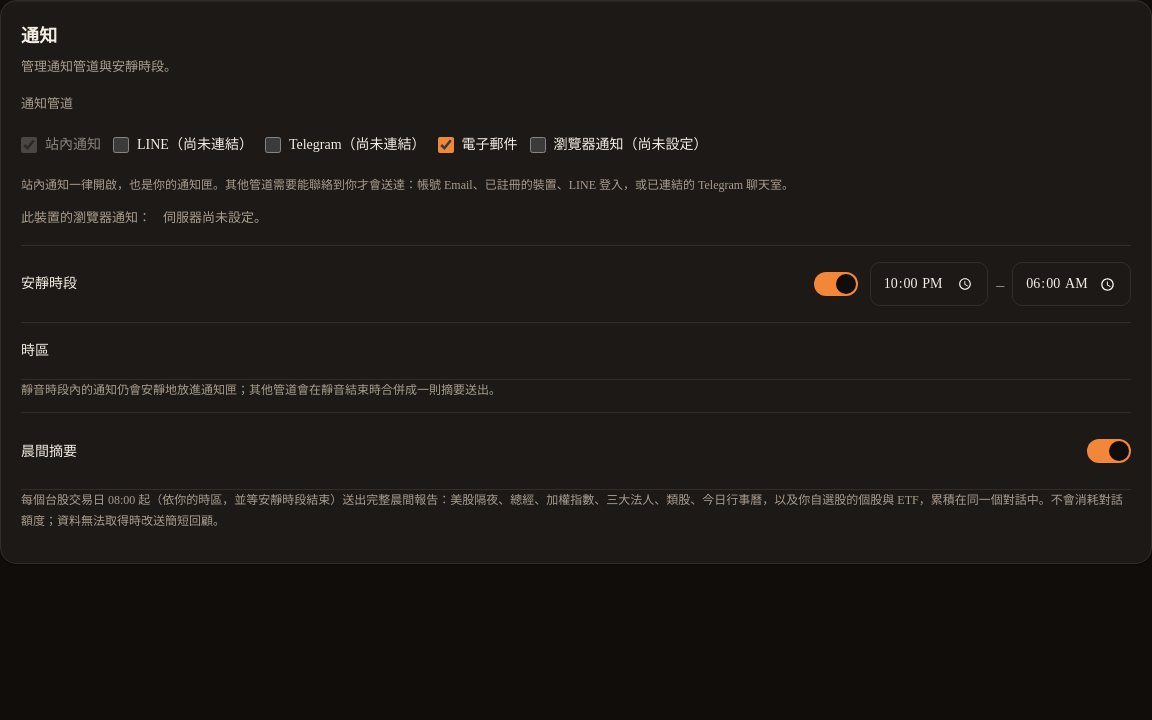
Test: NotificationsPanel actions › shows the save bar when a channel changes and saves the new set
Expected: the text "儲存" is not shown
Click the checkbox labelled "瀏覽器通知（尚未設定）" at (538,145), box [530, 137, 546, 153]
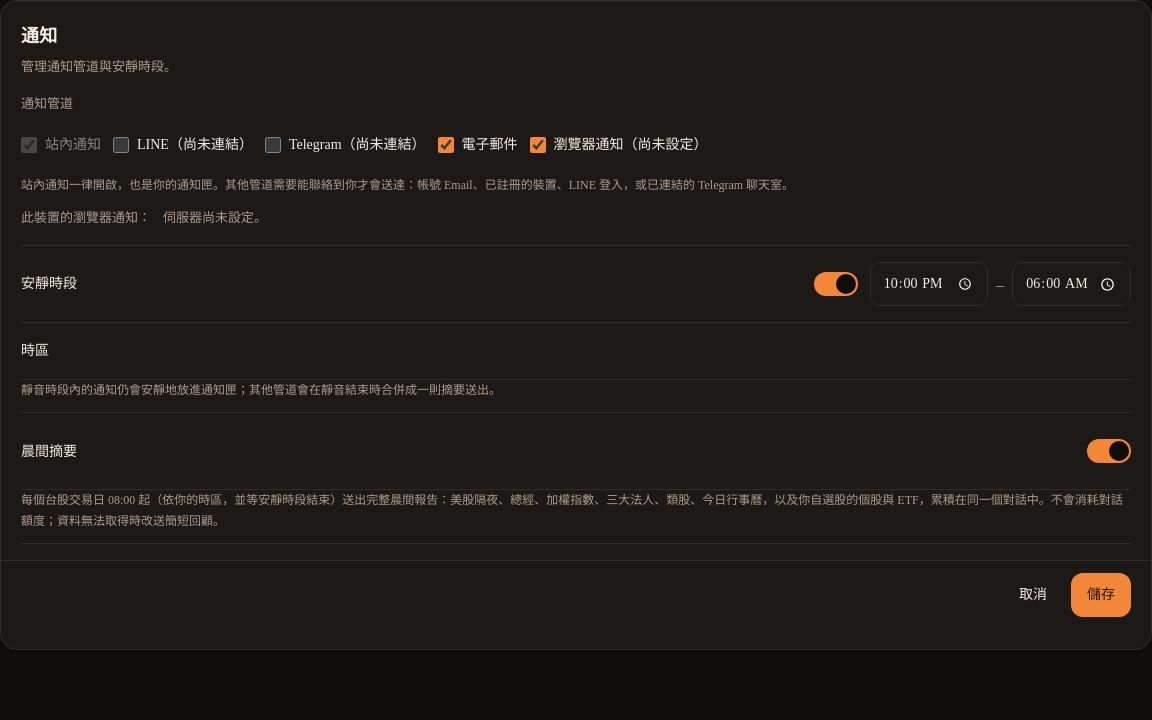
Result: the button "儲存" is shown
Click the button "儲存" at (1101,595), box [1071, 573, 1131, 617]
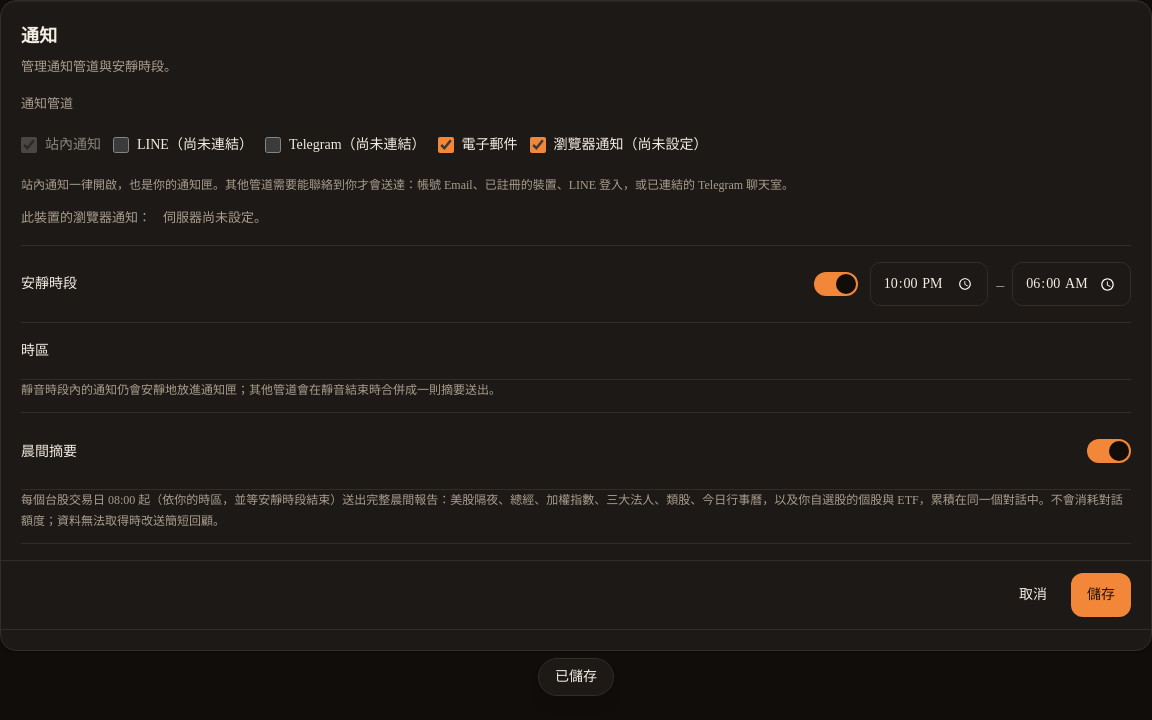
Result: the text "已儲存" is shown at [538, 658, 614, 696]
